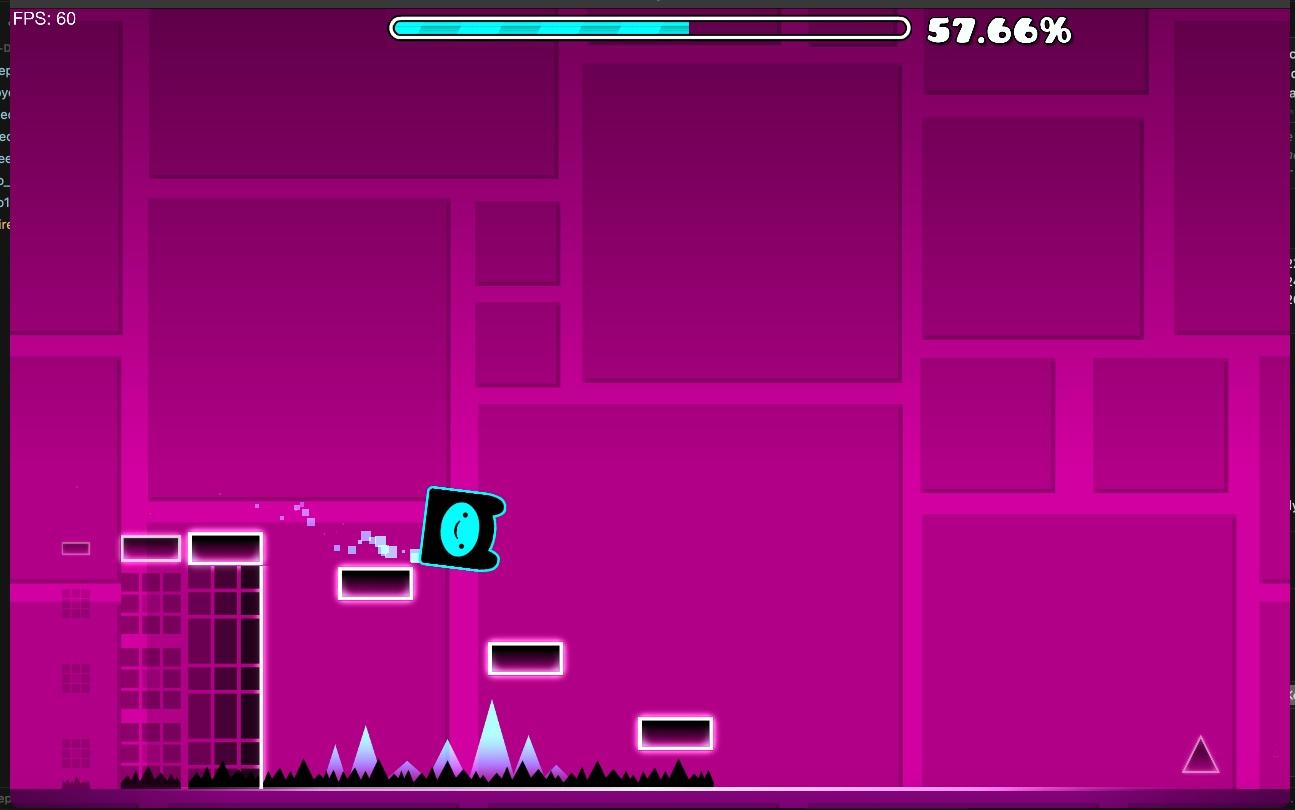platform: (120, 532, 262, 565), (485, 639, 567, 677), (635, 713, 714, 751), (339, 566, 413, 602)
player: (420, 487, 505, 571)
spike: (267, 713, 711, 787)
